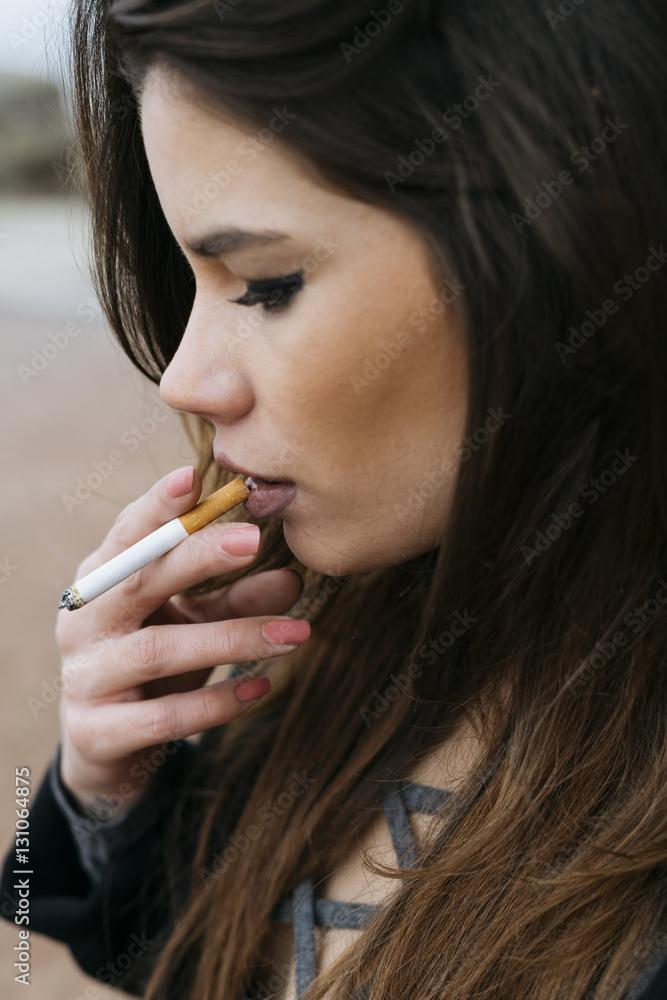cigarette: (59, 477, 256, 609)
